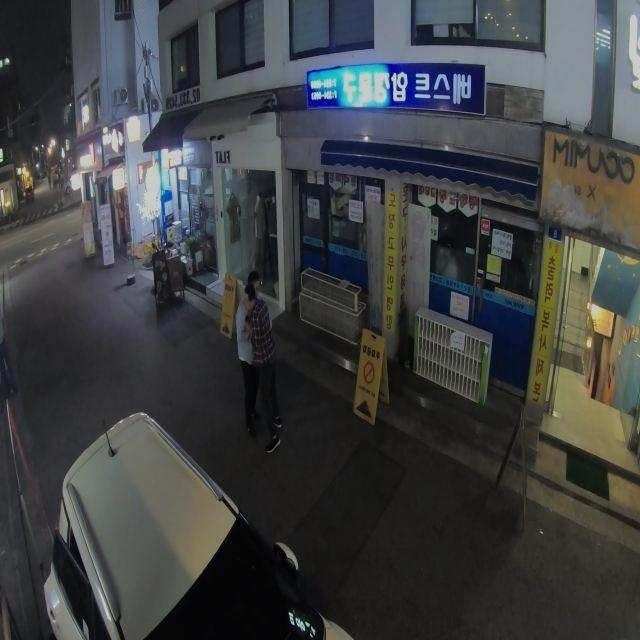fight: (232, 271, 285, 455)
